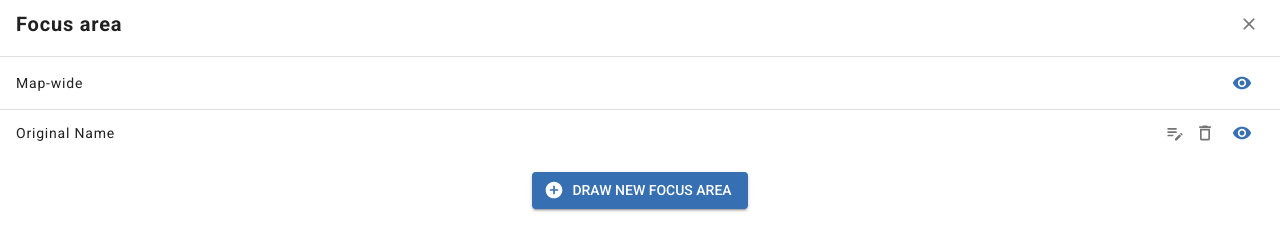
Scenario: FocusAreaView › Focus Area Actions › cancels edit on Escape key
Expected: the text "Original Name" is shown, x1=16 y1=125 x2=115 y2=141
Click the button named "Edit focus area name": (1175, 133) x1=1160 y1=118 x2=1190 y2=148
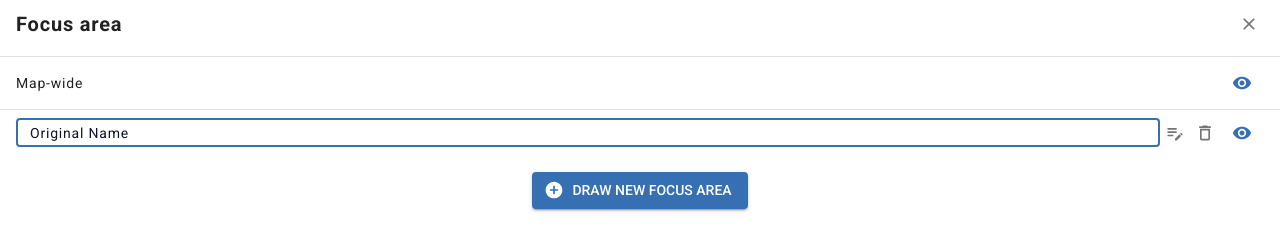
Replace the text in the field showing "Original Name" with "Changed Name": (588, 133) x1=16 y1=119 x2=1160 y2=147
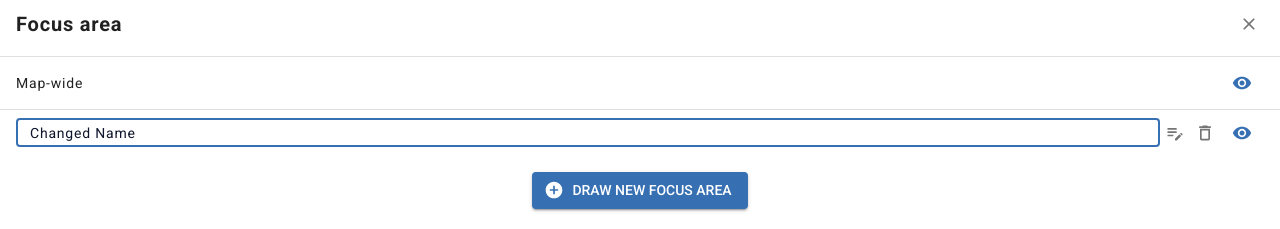
Press Escape in the field showing "Original Name", box x1=16 y1=119 x2=1160 y2=147
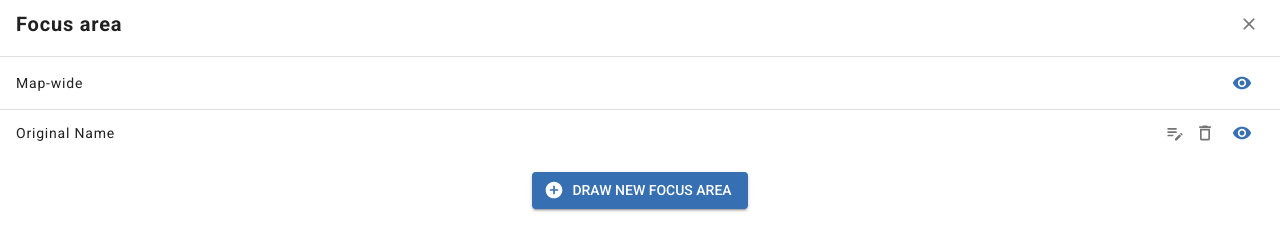
Expected: the text "Original Name" is shown, x1=16 y1=125 x2=115 y2=141
